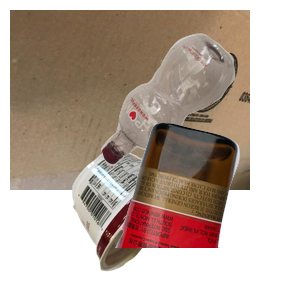cardboard: (10, 10, 250, 190)
glass: (113, 120, 300, 300)
plastic: (99, 31, 300, 189)
trash: (70, 149, 254, 300)
